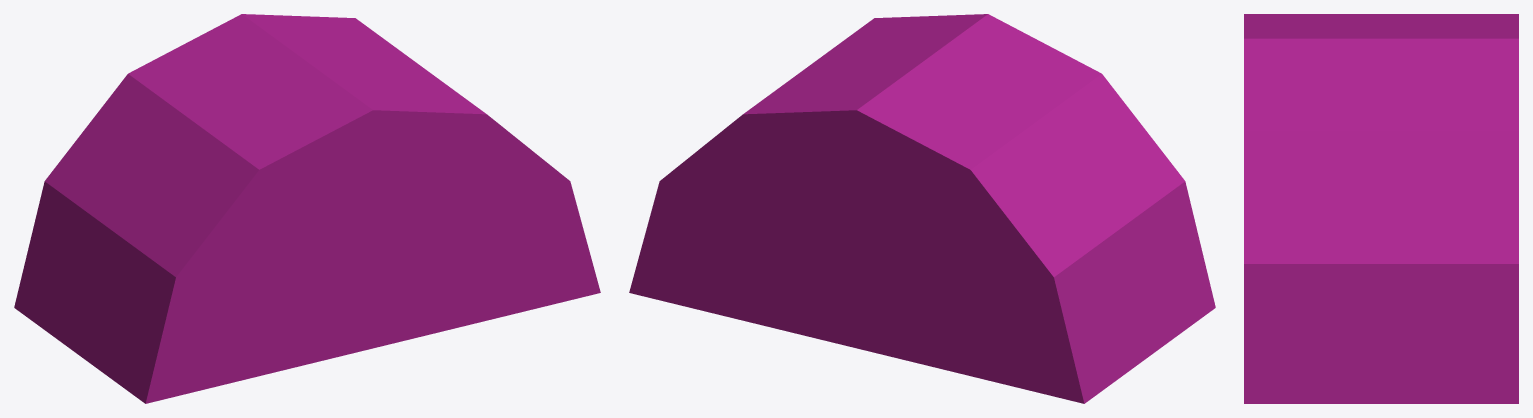
The model's file is hem1.fbx.
3 renders of one model, left to right at view 1: azimuth 30°, elevation 25°; view 2: azimuth 150°, elevation 25°; view 3: azimuth 270°, elevation 25°, orthographic. The views are drawn at different scales.
Visible parts, largest first — view 1: pCylinder2; view 2: pCylinder2; view 3: pCylinder2.
Boxes of the visible parts, x1,y1,x2,y2 form: pCylinder2: [14, 14, 600, 403]; pCylinder2: [629, 14, 1215, 403]; pCylinder2: [1244, 14, 1518, 403].
Size of the model in its own units: 3 by 1.5 by 1.5.
